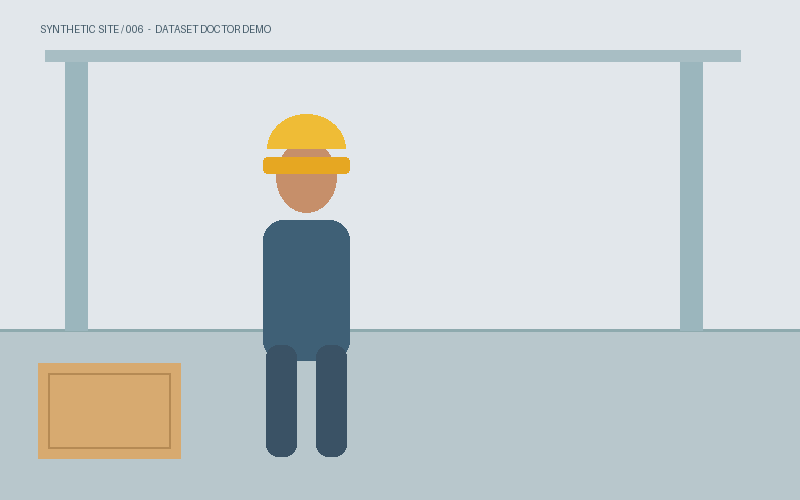Reflective-Jacket: (616, 175, 800, 325)
Safety-Helmet: (263, 127, 349, 173)
